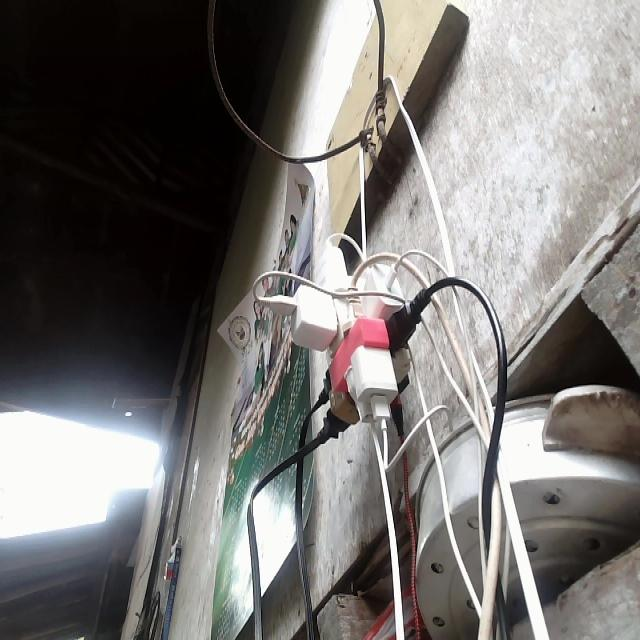-: (251, 232, 436, 439)
